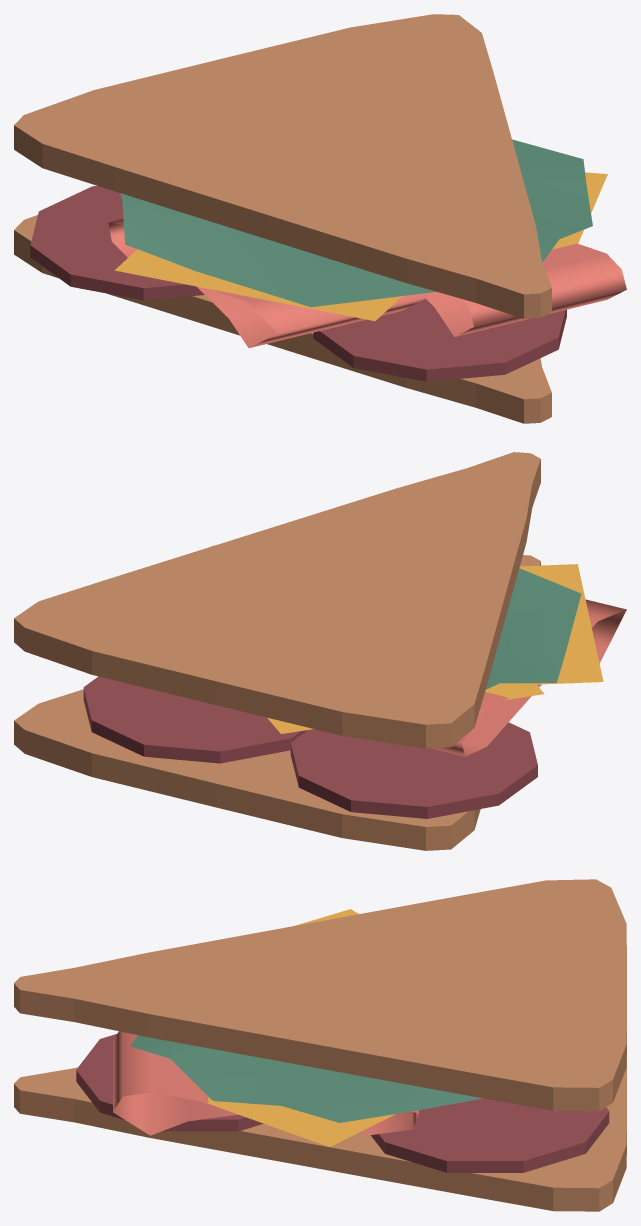
File: SM_Sandwitch.fbx
The picture shows the model from 3 angles, top to bottom: view 1: azimuth 30°, elevation 25°; view 2: azimuth 150°, elevation 25°; view 3: azimuth 270°, elevation 25°; orthographic projection. The views are drawn at different scales.
Parts seen in each view (by area): view 1: Plane.061, Plane.067, Circle, Plane.062, Circle.002, Plane.064, Plane.063, Plane.065, Plane.066; view 2: Plane.061, Plane.062, Circle.002, Circle.001, Plane.067, Plane.063, Plane.065, Plane.066; view 3: Plane.061, Plane.062, Circle.001, Plane.067, Plane.064, Circle, Plane.066.
Part boxes in pixels (x1,y1,x2,y2): Plane.061: [14, 14, 551, 318]; Plane.067: [120, 139, 592, 307]; Circle: [313, 298, 566, 381]; Plane.062: [14, 215, 551, 423]; Circle.002: [30, 186, 204, 300]; Plane.064: [426, 243, 626, 336]; Plane.063: [108, 219, 429, 348]; Plane.065: [114, 249, 402, 321]; Plane.066: [552, 172, 607, 249]; Plane.061: [14, 452, 540, 748]; Plane.062: [14, 555, 540, 850]; Circle.002: [290, 722, 537, 818]; Circle.001: [83, 676, 307, 763]; Plane.067: [212, 545, 581, 689]; Plane.063: [431, 599, 626, 756]; Plane.065: [494, 564, 603, 686]; Plane.066: [267, 684, 544, 733]; Plane.061: [14, 879, 626, 1111]; Plane.062: [14, 1055, 626, 1211]; Circle.001: [371, 1098, 609, 1172]; Plane.067: [130, 1035, 482, 1122]; Plane.064: [113, 1031, 418, 1135]; Circle: [76, 1034, 263, 1131]; Plane.066: [206, 1097, 395, 1146].
Bounding box in the file's own units: 20.72 × 5.3 × 23.81.
